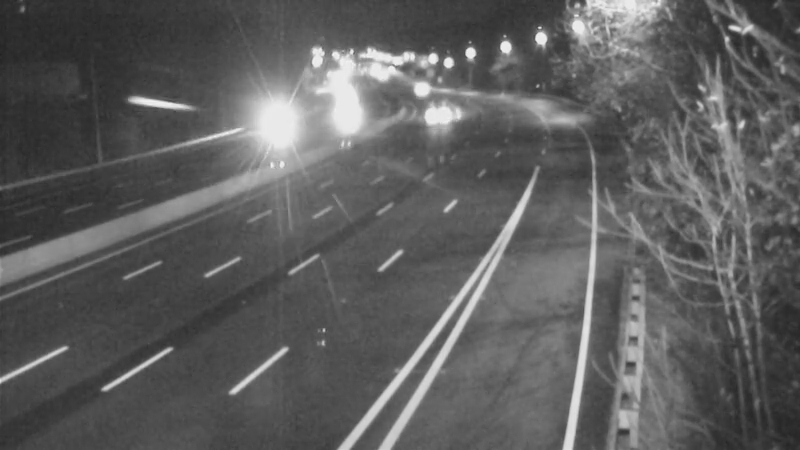vehicle: (392, 61, 442, 111), (412, 92, 462, 142), (245, 101, 295, 151), (319, 92, 369, 142)
